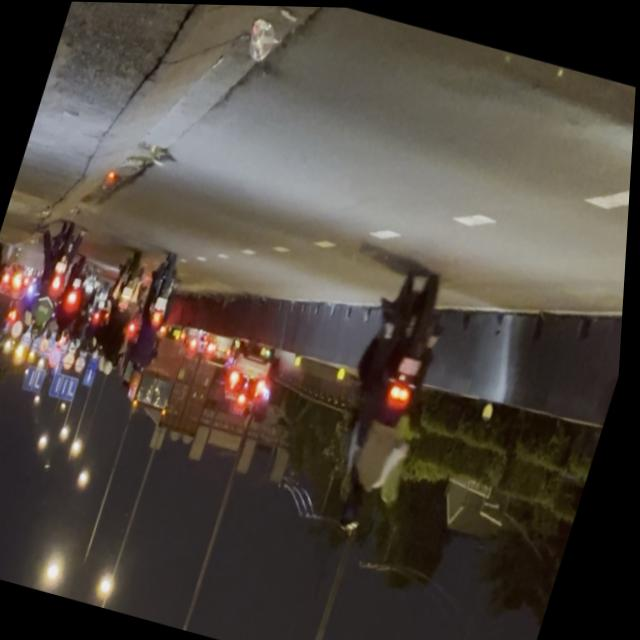helmet: (341, 481, 375, 531)
licenseplate: (312, 258, 467, 543)
